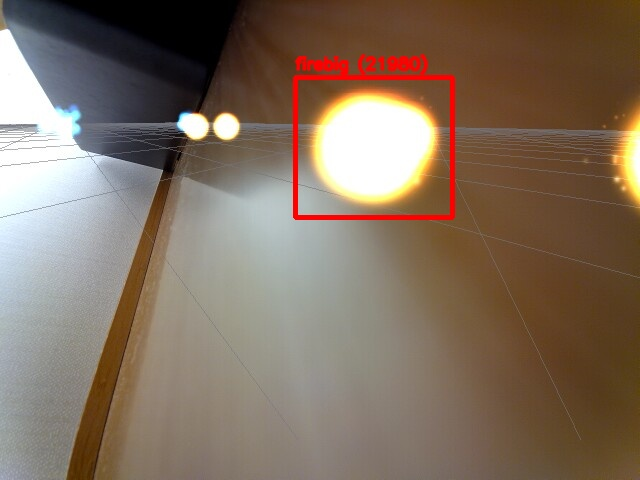firebig: (295, 77, 452, 217)
